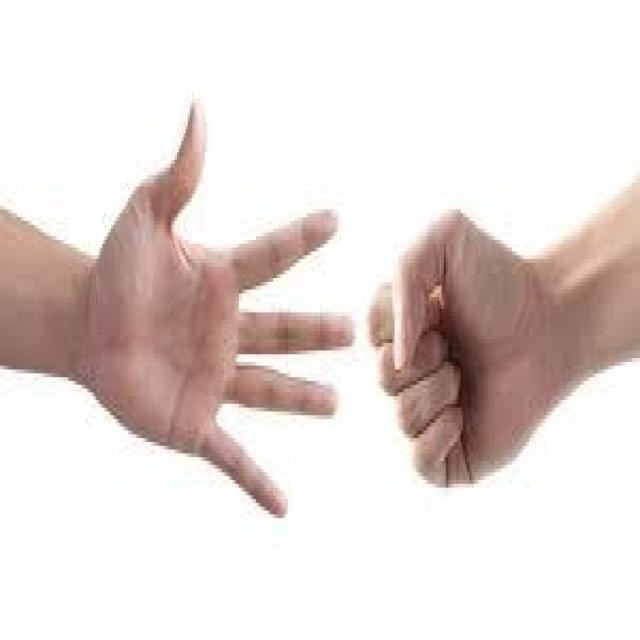paper: (68, 64, 357, 569)
rock: (366, 186, 580, 543)
